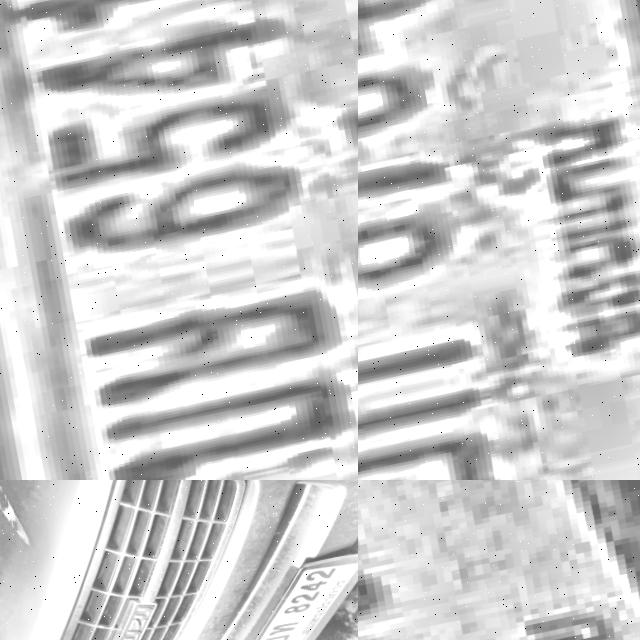license-plate: (0, 0, 358, 480), (358, 0, 640, 480), (358, 480, 640, 640), (216, 548, 358, 640)
